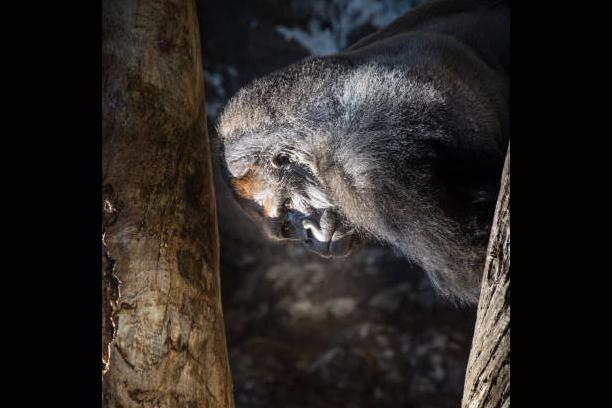goriile_montagne: (222, 19, 503, 266)
